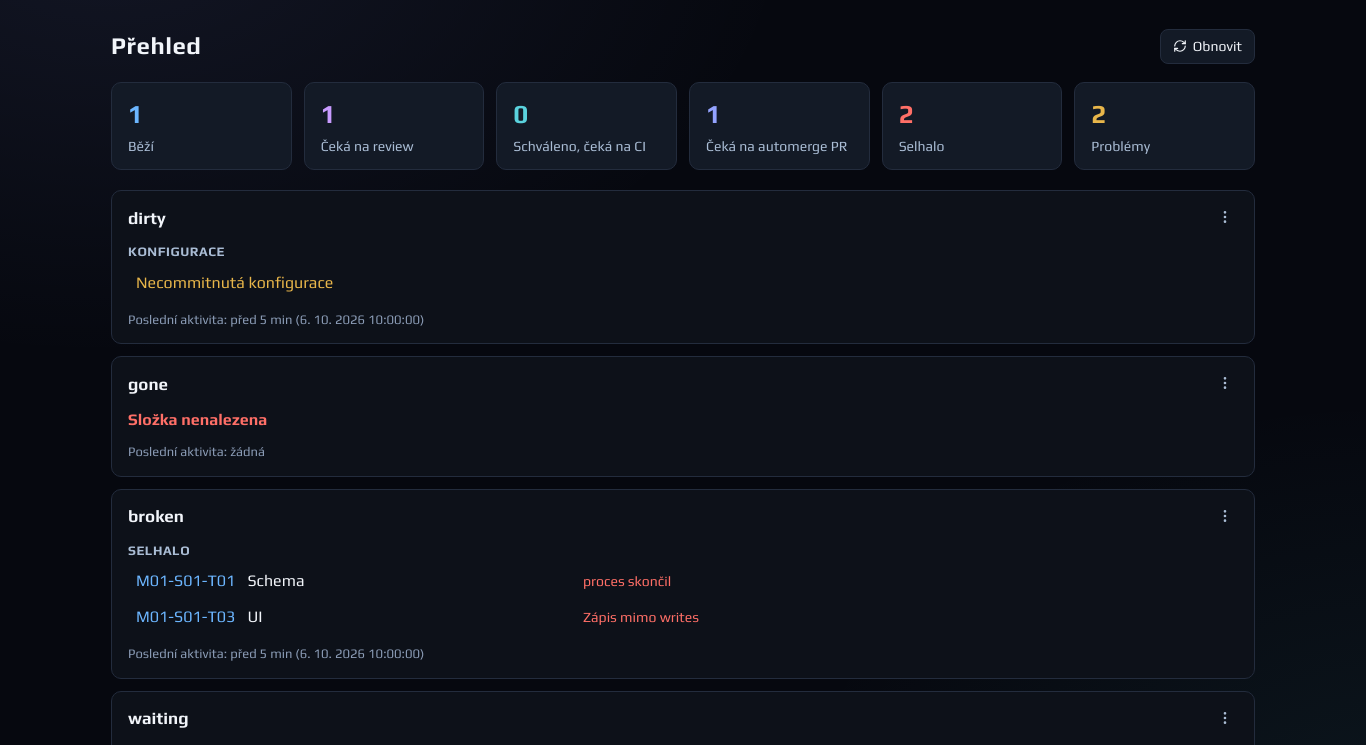
it: OverviewView › reports a failed removal
The image size is (1366, 745).
Click the 3rd button with test id "repo-menu": (1225, 383) [1212,371,1238,395]
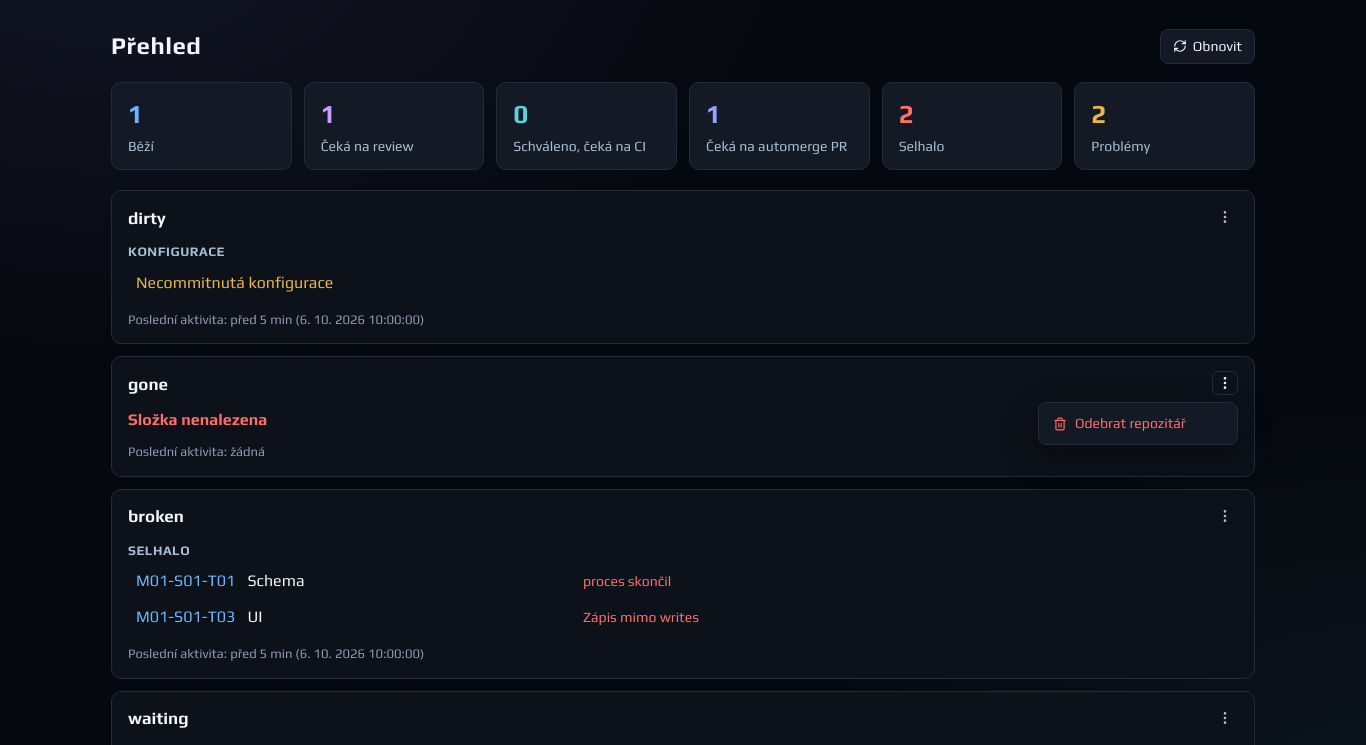
Click the menu item with test id "card-remove": (1138, 424) [1043,407,1233,440]
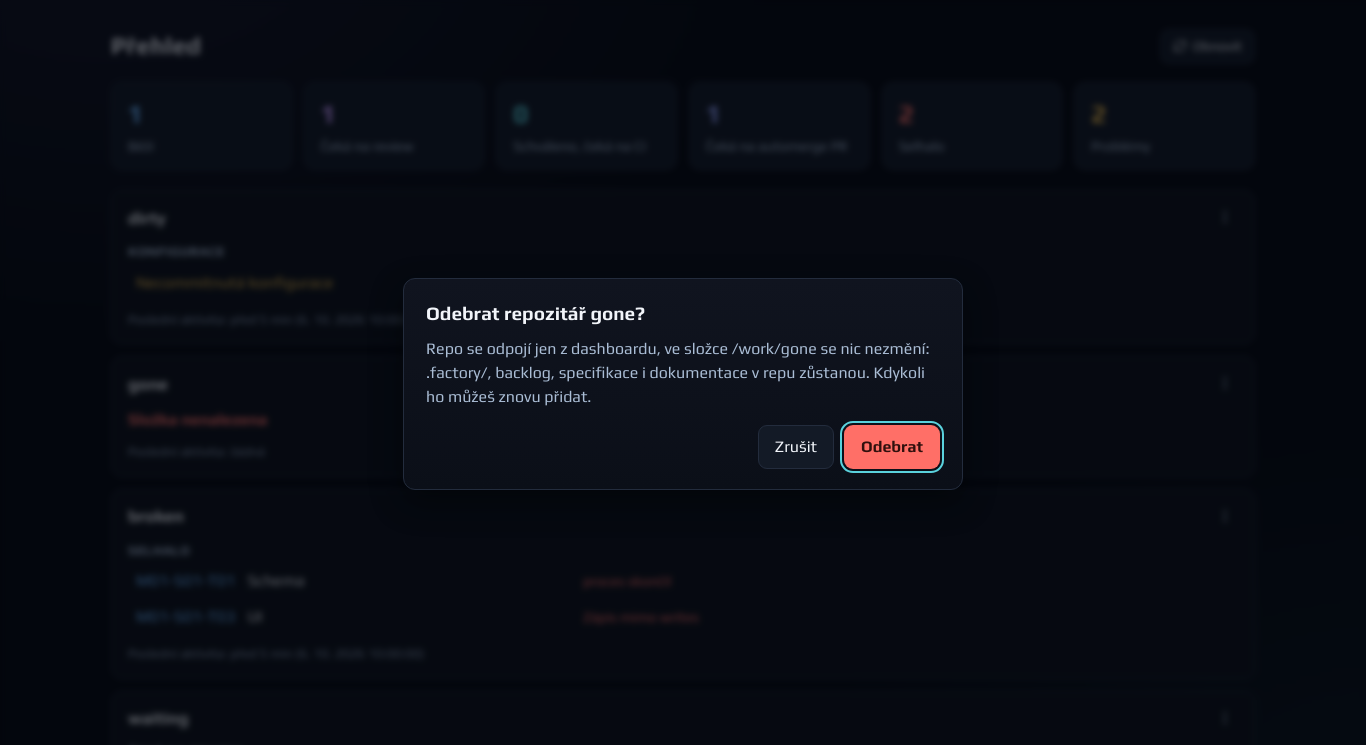
Click the button with test id "confirm-ok": (892, 447) [844,425,940,469]
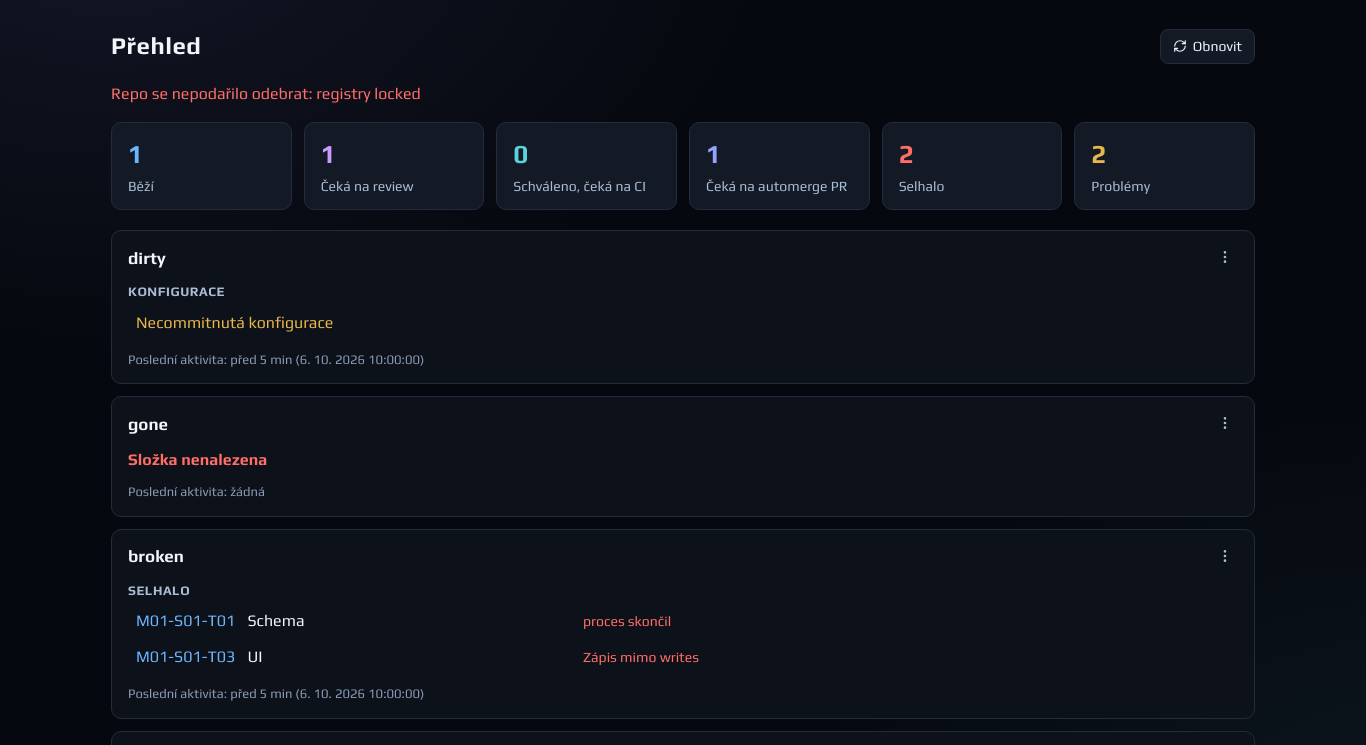
Expected: the text with test id "remove-error" shows "registry locked", [111,84,421,103]
